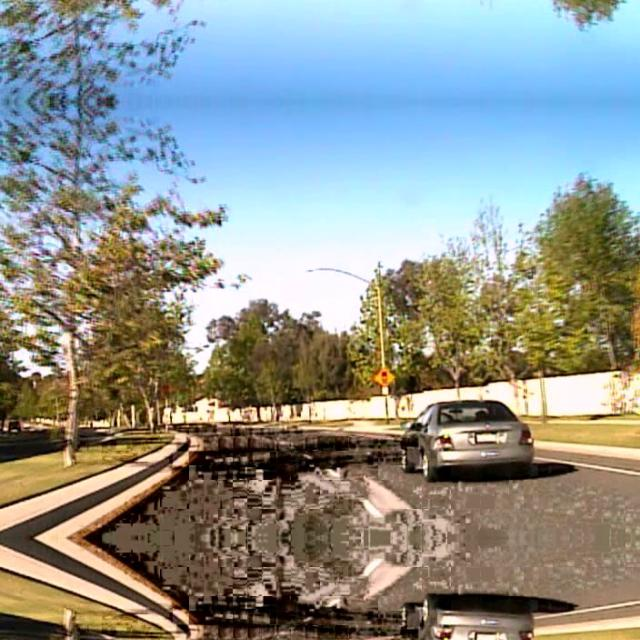signalAhead: (372, 366, 396, 386)
